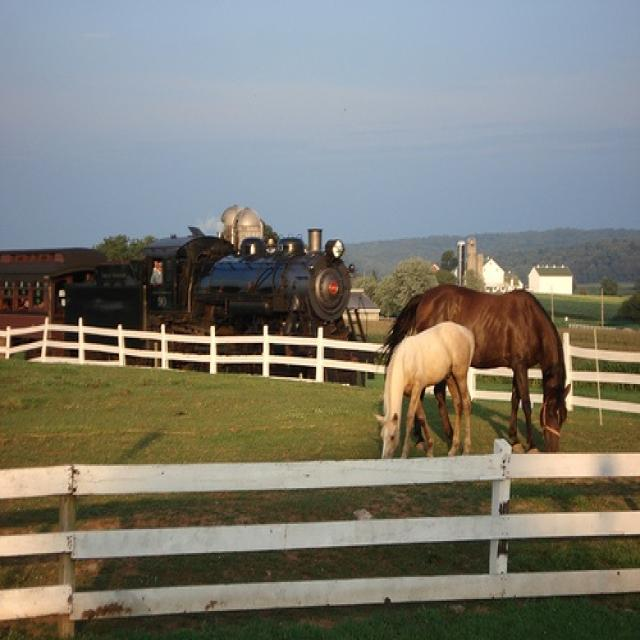horse: (380, 283, 572, 456), (374, 319, 472, 459)
train: (0, 228, 358, 384)
